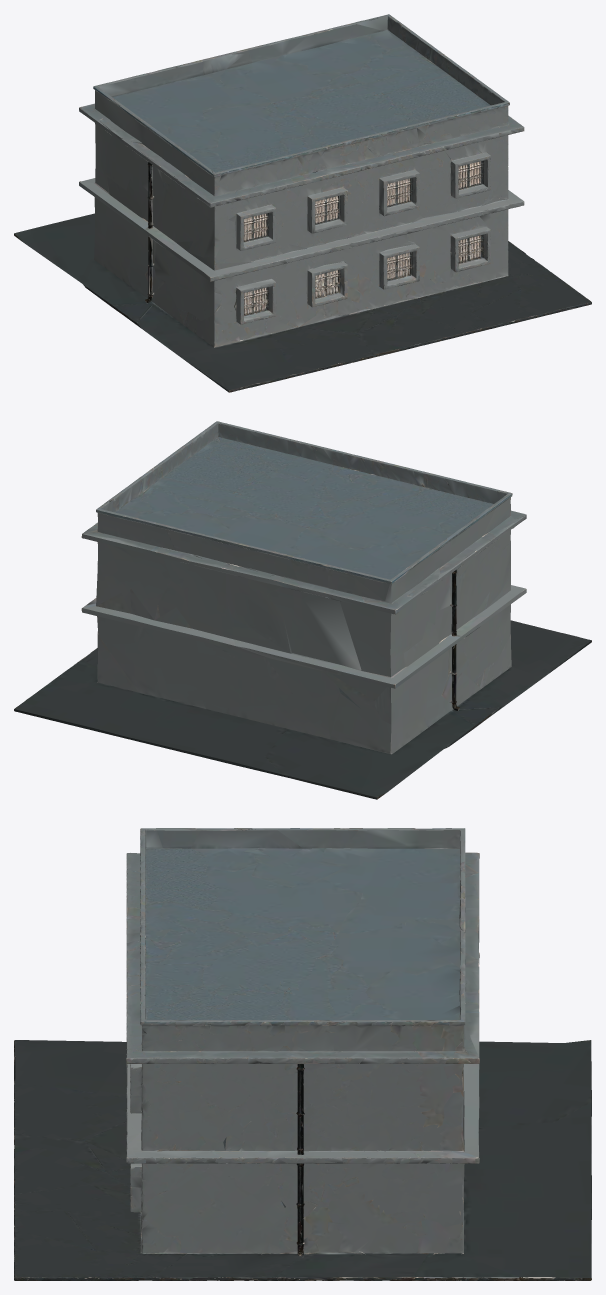
Rendered from 1-basic.glb.
3 views of the same model, one above another, from view 1: azimuth 30°, elevation 25°; view 2: azimuth 150°, elevation 25°; view 3: azimuth 270°, elevation 25° (orthographic). The views are drawn at different scales.
Visible parts, largest first — view 1: mesh_node; view 2: mesh_node; view 3: mesh_node.
Part boxes in pixels (x1,y1,x2,y2): mesh_node: (14,14,591,392); mesh_node: (14,421,591,799); mesh_node: (14,828,591,1280).
Bounding box in the file's own units: 1.86 × 0.86 × 1.9.
Materials: 1 (1 with a texture image).
